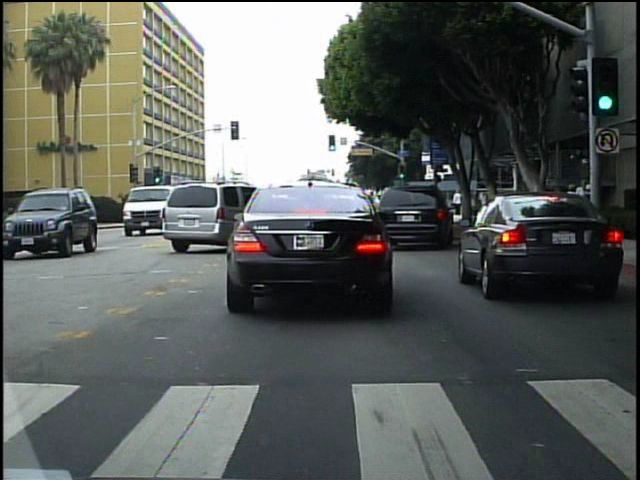person: (575, 174, 593, 235), (452, 187, 462, 217)
